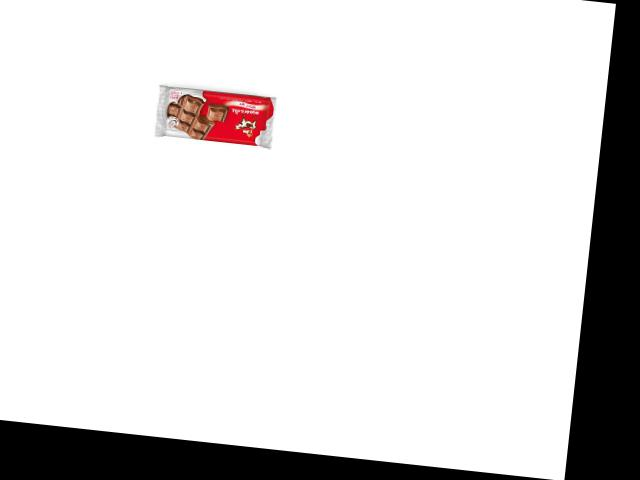chocolate: (150, 83, 277, 150)
